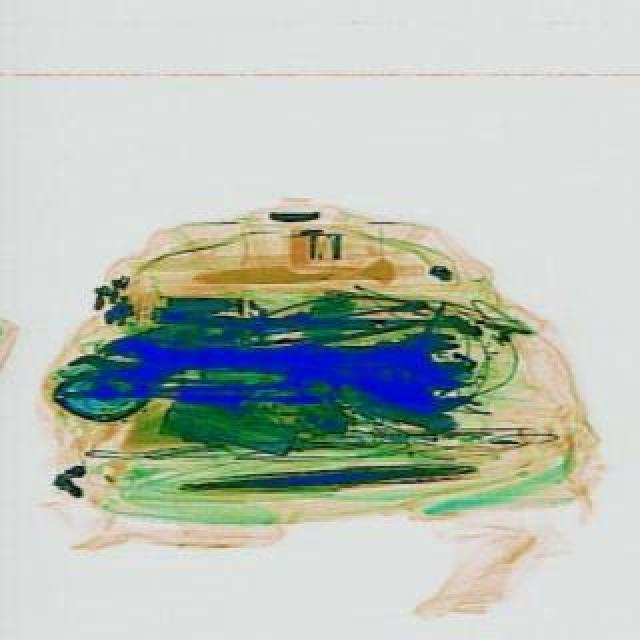scissors: (266, 330, 472, 414), (96, 334, 302, 386), (62, 354, 160, 382)
